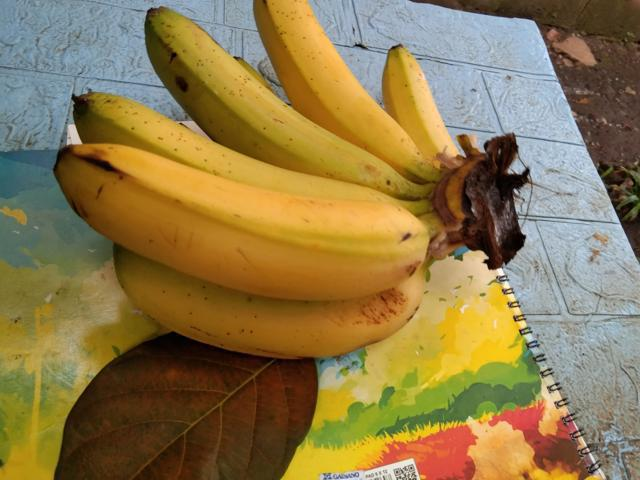freshripe: (96, 239, 429, 361), (241, 0, 401, 159)
ripe: (45, 133, 430, 301)
